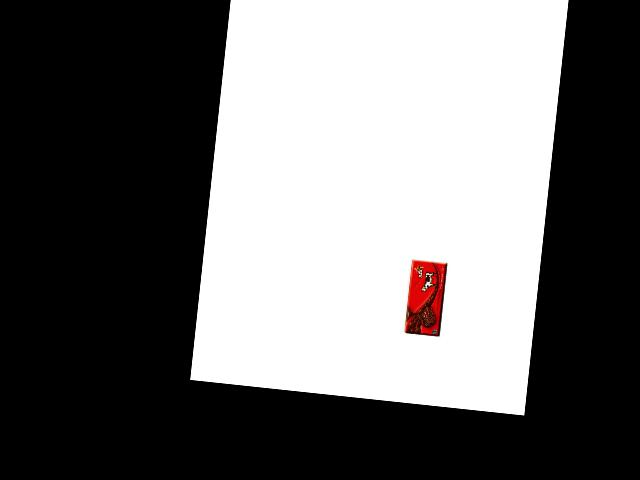chocolate: (396, 265, 440, 338)
